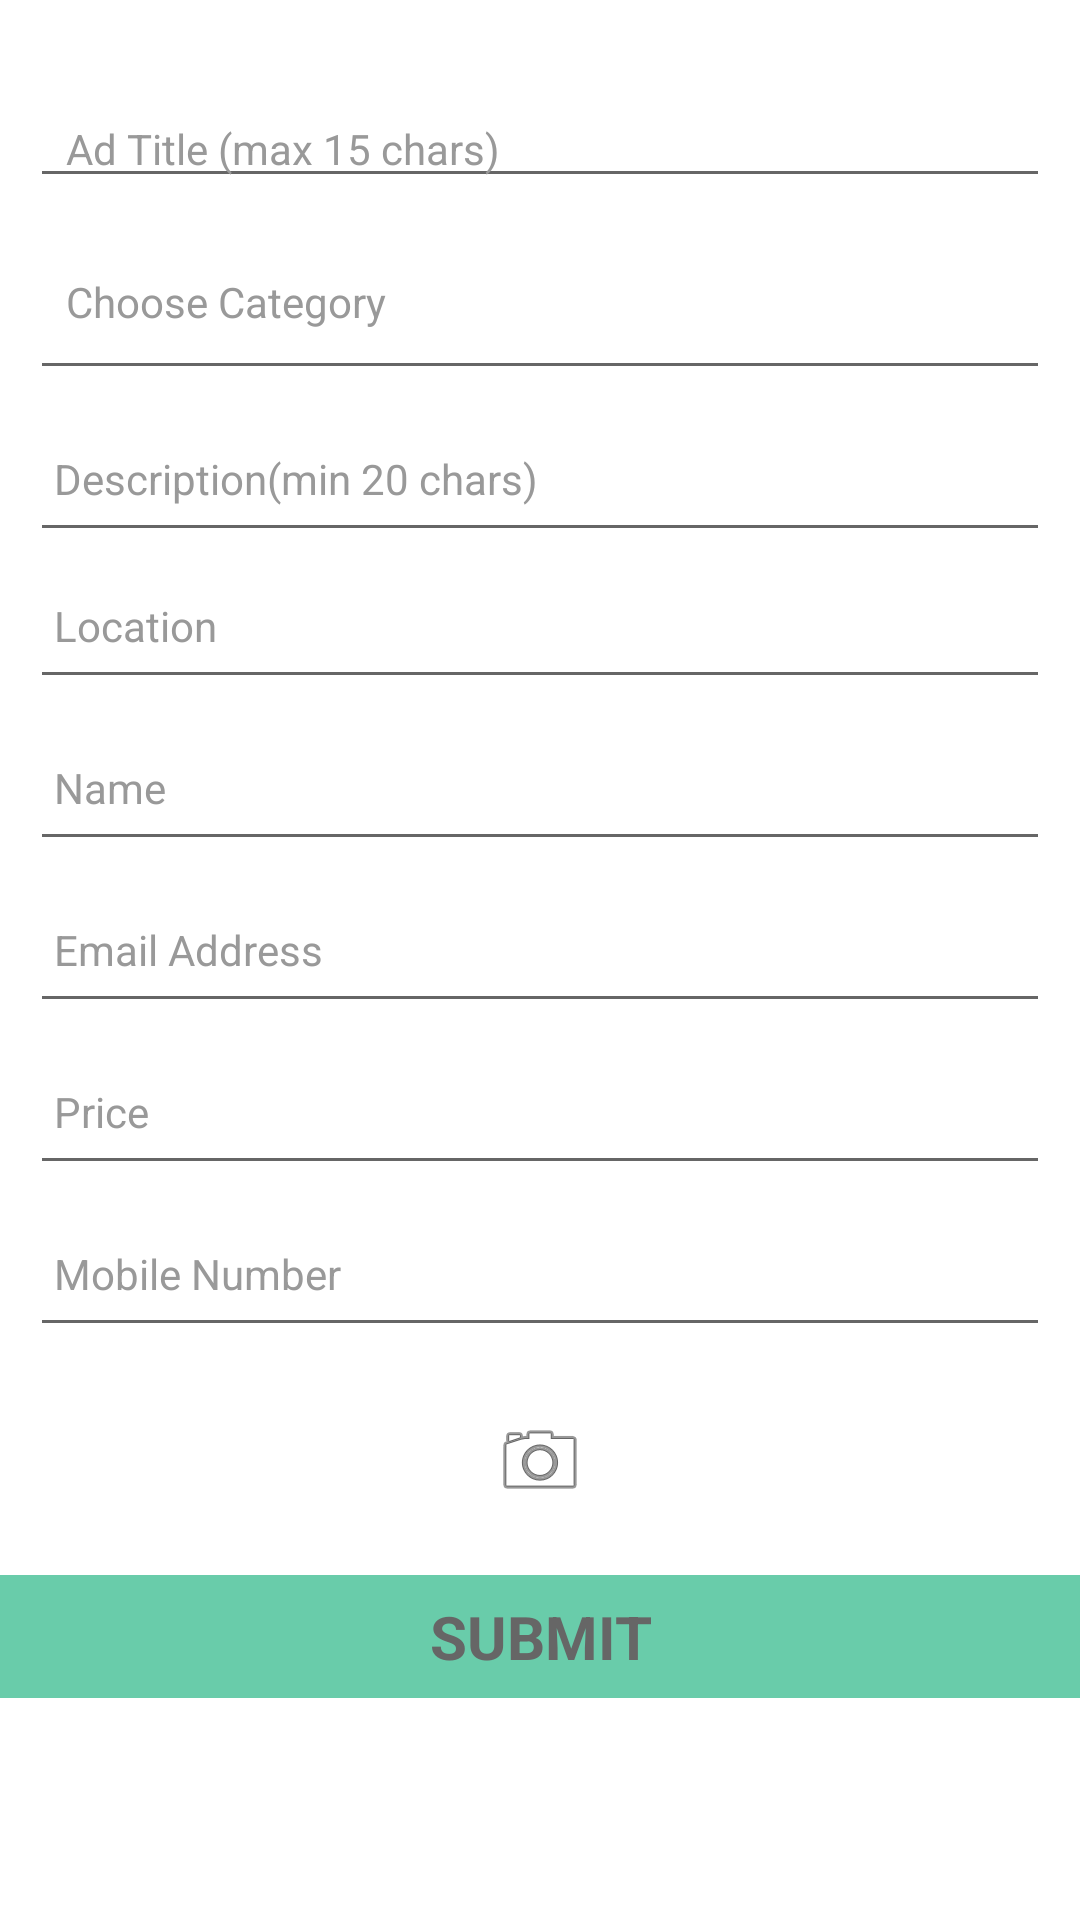

Named icons in this screenshot (1080w x 1920h) and their centers, (x,y):
camera: (540,1459)
